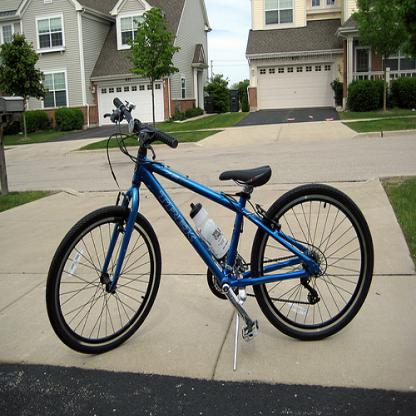bicycle: (46, 98, 374, 372)
bottle: (189, 198, 230, 260)
